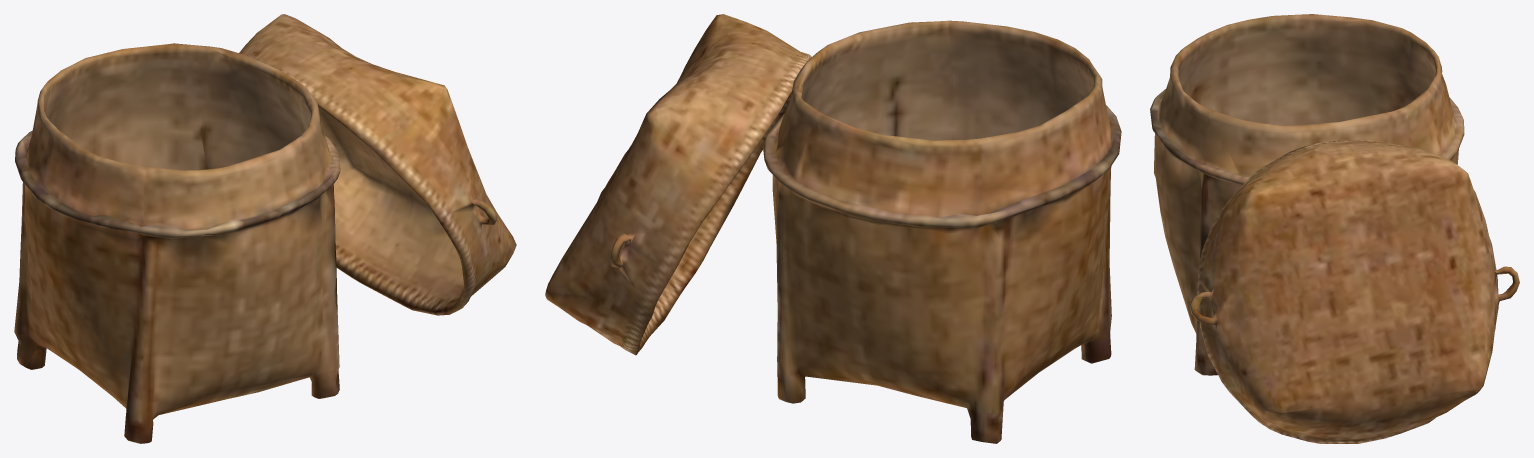
The model's file is wicker_basket_02.glb.
The picture shows the model from 3 angles, left to right: view 1: azimuth 30°, elevation 25°; view 2: azimuth 150°, elevation 25°; view 3: azimuth 270°, elevation 25°; orthographic projection. The views are drawn at different scales.
Parts seen in each view (by area): view 1: wicker_basket_02_base; view 2: wicker_basket_02_base; view 3: wicker_basket_02_base.
Part boxes in pixels (x1,y1,x2,y2): wicker_basket_02_base: (14, 14, 516, 443); wicker_basket_02_base: (545, 14, 1121, 443); wicker_basket_02_base: (1150, 14, 1519, 443).
Size of the model in its own units: 0.3469 by 0.2004 by 0.2541.
Materials: 1 (1 with a texture image).
